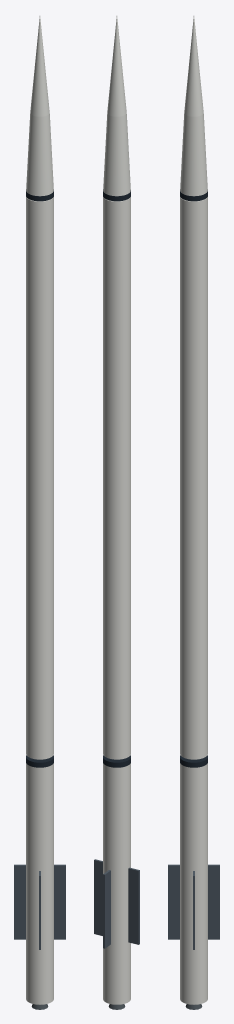
Rendered from blackbrant.glb.
The picture shows the model from 3 angles, left to right: view 1: azimuth 90°, elevation 25°; view 2: azimuth 150°, elevation 25°; view 3: azimuth 270°, elevation 25°; orthographic projection.
Parts seen in each view (by area): view 1: body-1, body-0, fairing, nose, fin-1, fin-3, interstage-0, interstage-1; view 2: body-1, body-0, fairing, nose, fin-2, fin-0, fin-3, interstage-0, interstage-1; view 3: body-1, body-0, fairing, nose, fin-1, fin-3, interstage-0, interstage-1.
Part boxes in pixels (x1,y1,x2,y2): body-1: (26,197,53,759); body-0: (26,763,53,1004); fairing: (26,113,53,196); nose: (30,16,49,116); fin-1: (54,864,65,939); fin-3: (14,864,25,939); interstage-0: (26,755,53,767); interstage-1: (26,191,53,201); body-1: (103,197,130,759); body-0: (103,763,130,1004); fairing: (103,114,130,196); nose: (107,16,126,116); fin-2: (128,867,139,944); fin-0: (94,859,102,935); fin-3: (103,870,110,948); interstage-0: (103,755,130,767); interstage-1: (103,189,130,201); body-1: (180,197,207,759); body-0: (180,763,207,1004); fairing: (180,113,207,196); nose: (184,16,203,116); fin-1: (168,864,179,939); fin-3: (208,864,219,939); interstage-0: (180,755,207,767); interstage-1: (180,191,207,201).
Bounding box in the file's own units: 0.8103 × 17.17 × 0.8103.
